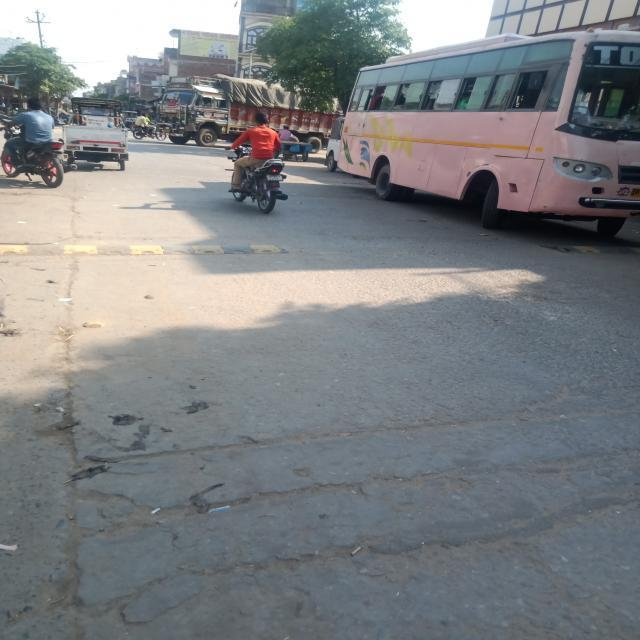Bike: (208, 118, 316, 235), (9, 88, 77, 212)
Bus: (334, 46, 640, 242)
No_Helmet: (228, 95, 288, 130), (23, 66, 54, 122)
